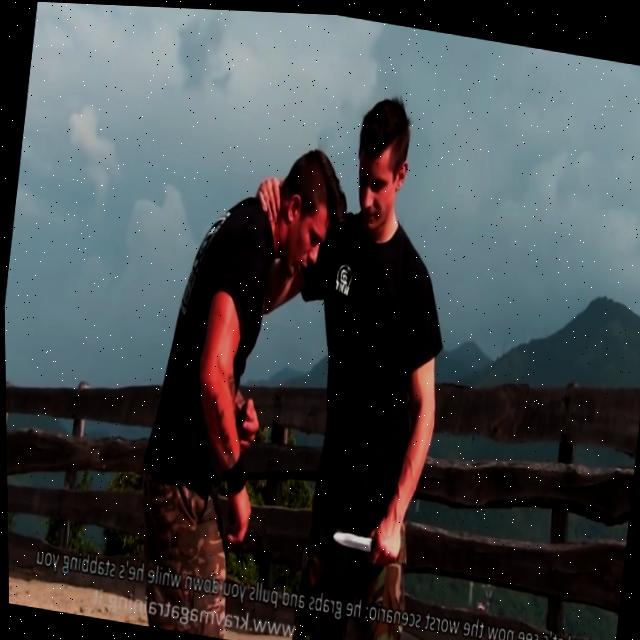knife: (329, 524, 374, 551)
